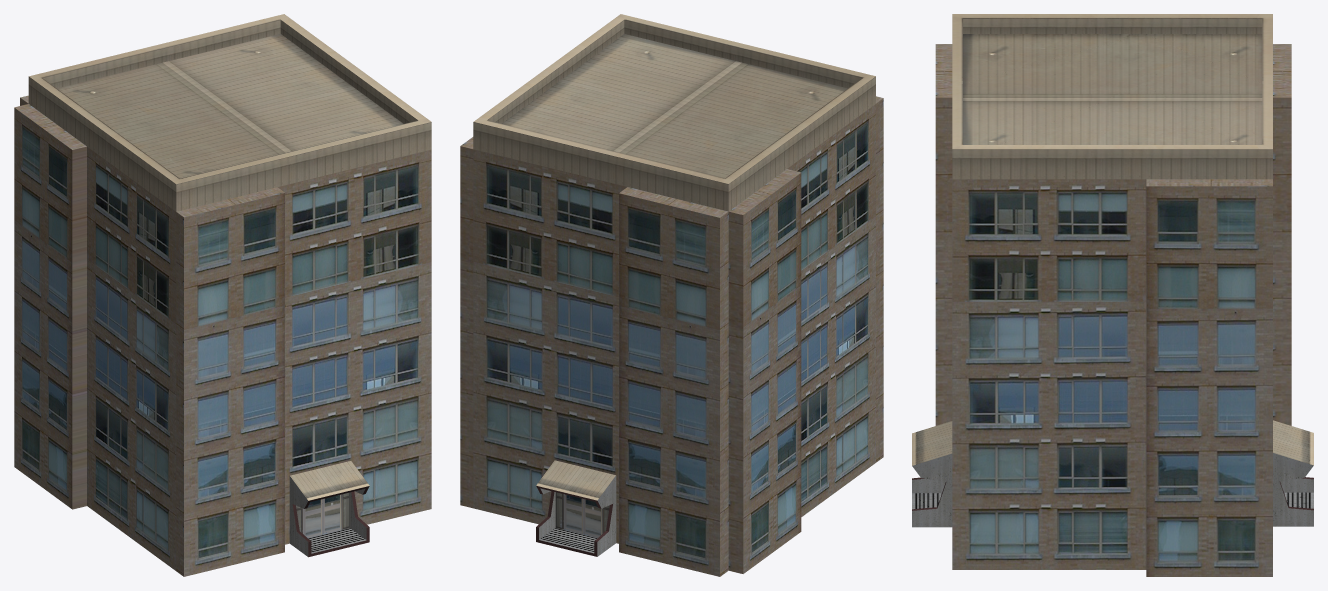
Rendered from building_004_v2.fbx.
The picture shows the model from 3 angles, left to right: view 1: azimuth 30°, elevation 25°; view 2: azimuth 150°, elevation 25°; view 3: azimuth 270°, elevation 25°; orthographic projection. The views are drawn at different scales.
Visible parts, largest first — view 1: building_4, stairs; view 2: building_4, stairs3; view 3: building_4, stairs, stairs3.
Boxes of the visible parts, bbox=[...] form: building_4: bbox=[14, 14, 431, 576]; stairs: bbox=[289, 461, 369, 557]; building_4: bbox=[460, 14, 883, 576]; stairs3: bbox=[536, 460, 616, 556]; building_4: bbox=[935, 14, 1291, 576]; stairs: bbox=[912, 421, 952, 527]; stairs3: bbox=[1273, 420, 1313, 526].
Size of the model in its own units: 12.68 by 16.55 by 14.34.
